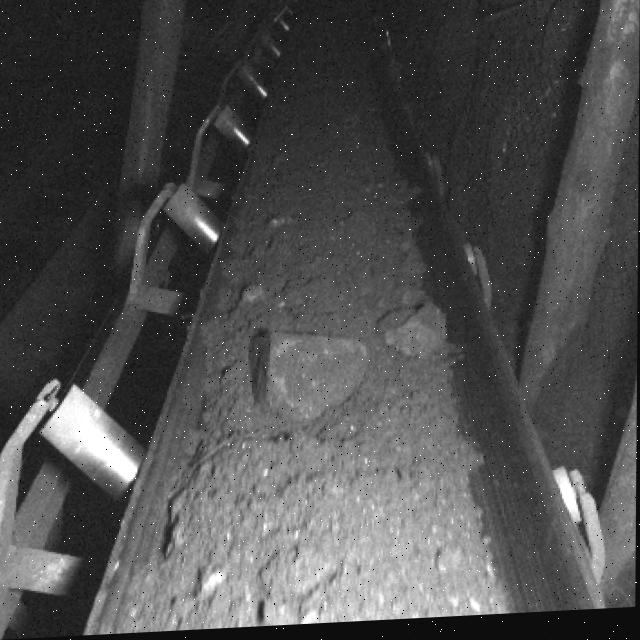large_sized_coal: (258, 330, 363, 425), (381, 304, 445, 360)
